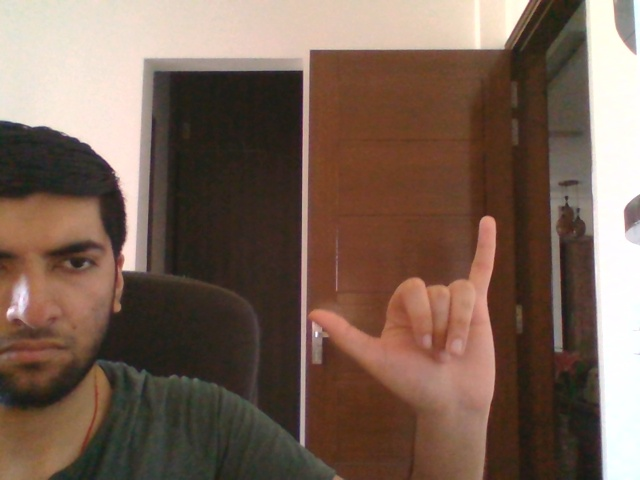LetterY: (306, 212, 501, 414)
